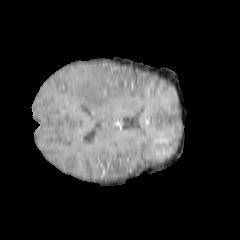glioma: (69, 76, 119, 111)
